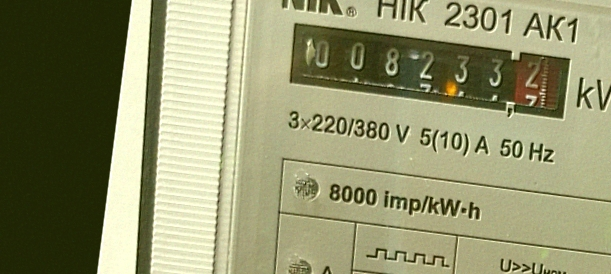0: (309, 37, 334, 71), (346, 40, 368, 73)
2: (414, 48, 438, 83), (522, 58, 543, 92)
3: (451, 53, 472, 86), (486, 56, 506, 89)
8: (381, 45, 402, 78)
screen: (275, 11, 583, 130)
